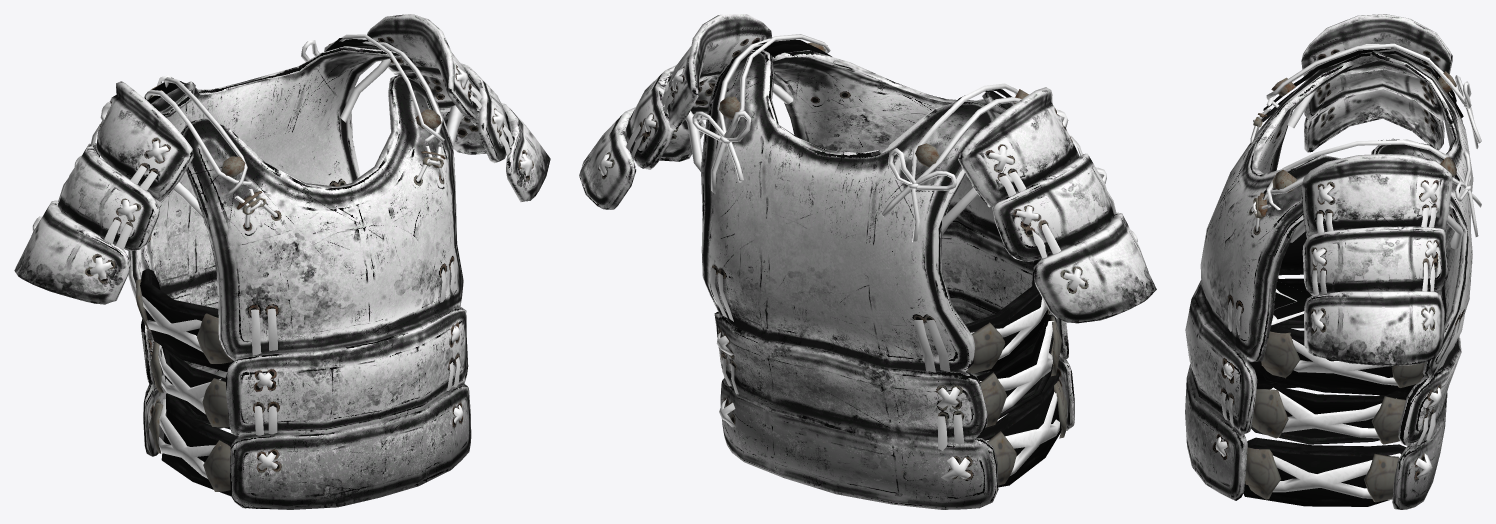
Rendered from SurvivorMale_Armor_Samurai_LOD0.glb.
3 renders of one model, left to right at view 1: azimuth 30°, elevation 25°; view 2: azimuth 150°, elevation 25°; view 3: azimuth 270°, elevation 25°, orthographic. The views are drawn at different scales.
Visible parts, largest first — view 1: Hoodie; view 2: Hoodie; view 3: Hoodie.
Boxes of the visible parts, bbox=[...] form: Hoodie: bbox=[14, 14, 550, 509]; Hoodie: bbox=[579, 14, 1156, 509]; Hoodie: bbox=[1185, 14, 1481, 509].
Bounding box in the file's own units: 0.7427 × 0.5184 × 0.3715.
Materials: 1 (1 with a texture image).
